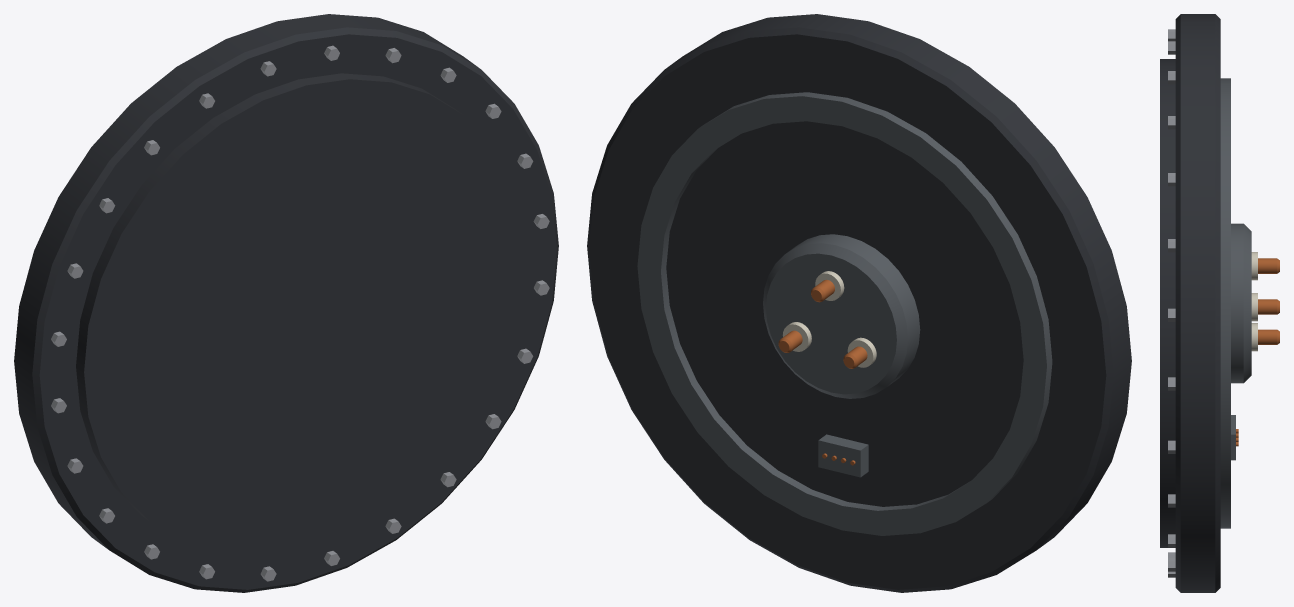
Rendered from n1_flange.obj.
The picture shows the model from 3 angles, left to right: view 1: azimuth 30°, elevation 25°; view 2: azimuth 150°, elevation 25°; view 3: azimuth 270°, elevation 25°; orthographic projection. The views are drawn at different scales.
Parts seen in each view (by area): view 1: n1_flange; view 2: n1_flange; view 3: n1_flange.
Part boxes in pixels (x1,y1,x2,y2): n1_flange: (14, 14, 558, 592); n1_flange: (587, 14, 1131, 592); n1_flange: (1160, 14, 1279, 592).
Size of the model in its own units: 4.5 by 4.5 by 0.93.
